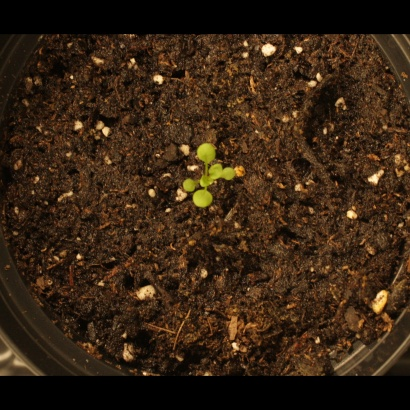leaf: (196, 140, 219, 163), (194, 188, 217, 211), (176, 174, 199, 197), (223, 165, 246, 188), (206, 161, 229, 184), (196, 169, 219, 192)
